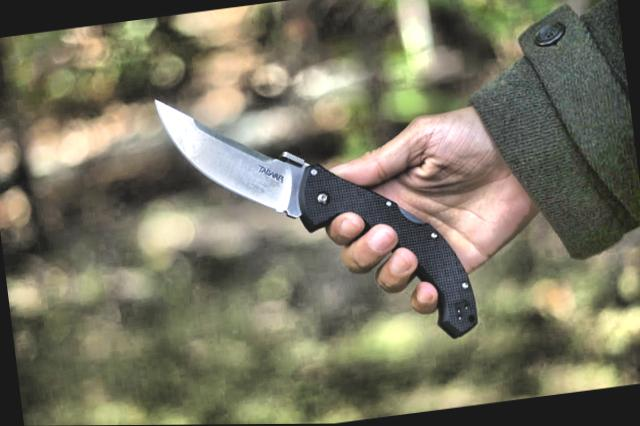knife: (148, 53, 489, 376)
